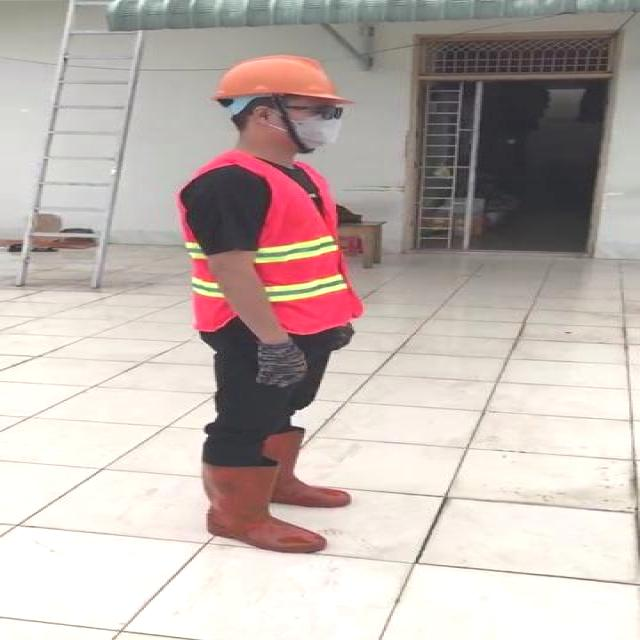boots: (226, 421, 354, 512), (203, 460, 325, 554)
face_mask: (278, 98, 350, 146)
glasses: (288, 98, 352, 122)
hand_glove: (249, 341, 309, 386)
head_helmet: (212, 54, 352, 104)
person: (170, 49, 388, 564)
vest: (171, 158, 357, 332)
